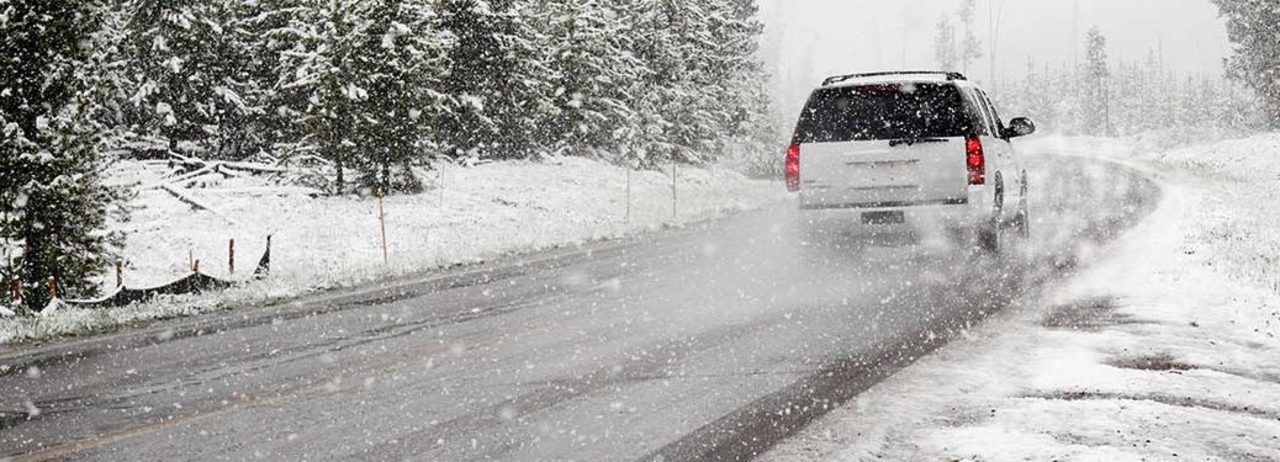car: (781, 68, 1031, 250)
